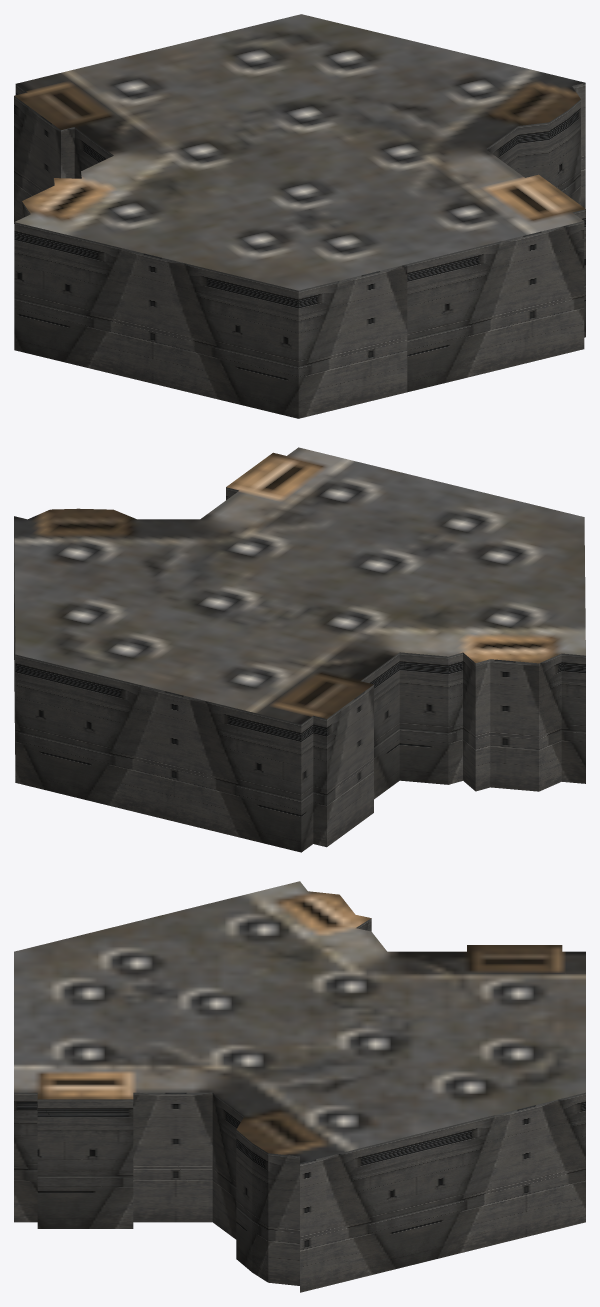
File: fortress_medium_a_27.glb
3 renders of one model, top to bottom at view 1: azimuth 30°, elevation 25°; view 2: azimuth 150°, elevation 25°; view 3: azimuth 270°, elevation 25°, orthographic.
Parts seen in each view (by area): view 1: buildings/saxarba/fortress_medium/fortress_medium_a_27; view 2: buildings/saxarba/fortress_medium/fortress_medium_a_27; view 3: buildings/saxarba/fortress_medium/fortress_medium_a_27.
Part boxes in pixels (x1,y1,x2,y2): buildings/saxarba/fortress_medium/fortress_medium_a_27: (14,14,585,418); buildings/saxarba/fortress_medium/fortress_medium_a_27: (14,447,585,852); buildings/saxarba/fortress_medium/fortress_medium_a_27: (14,881,585,1292).
Bounding box in the file's own units: 84 × 18 × 72.
